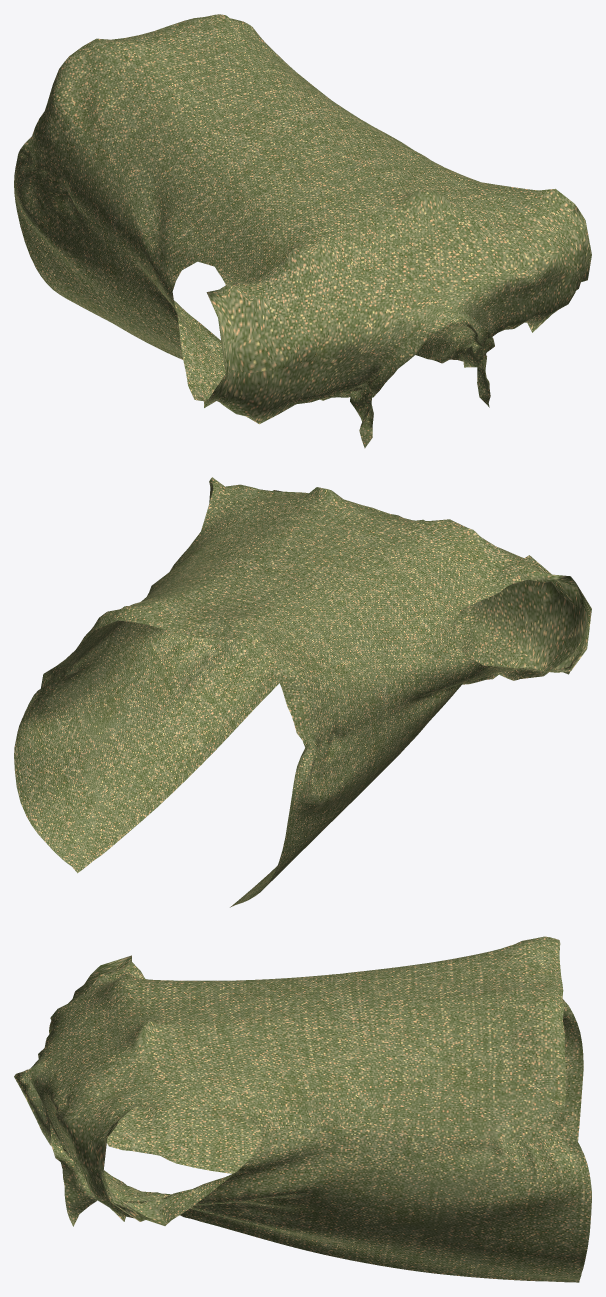
Rendered from vest.obj.
3 views of the same model, one above another, from view 1: azimuth 30°, elevation 25°; view 2: azimuth 150°, elevation 25°; view 3: azimuth 270°, elevation 25° (orthographic). The views are drawn at different scales.
Size of the model in its own units: 0.5139 by 0.3506 by 0.676.
Materials: 1 (1 with a texture image).
